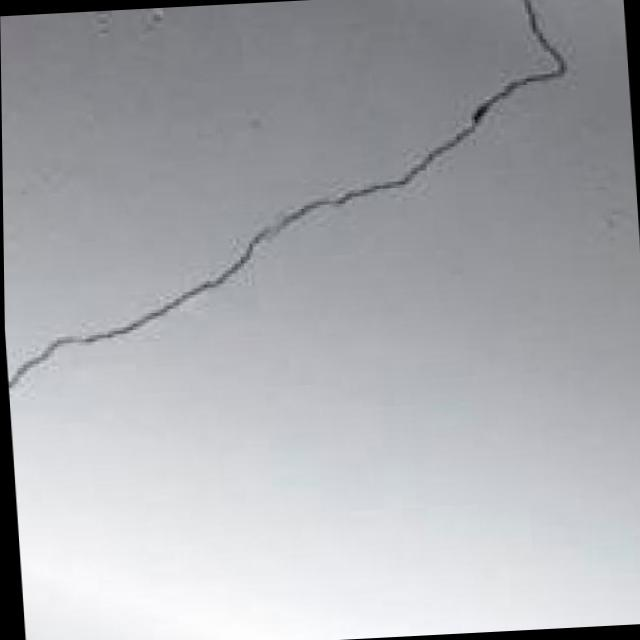Crack: (0, 0, 617, 422)
